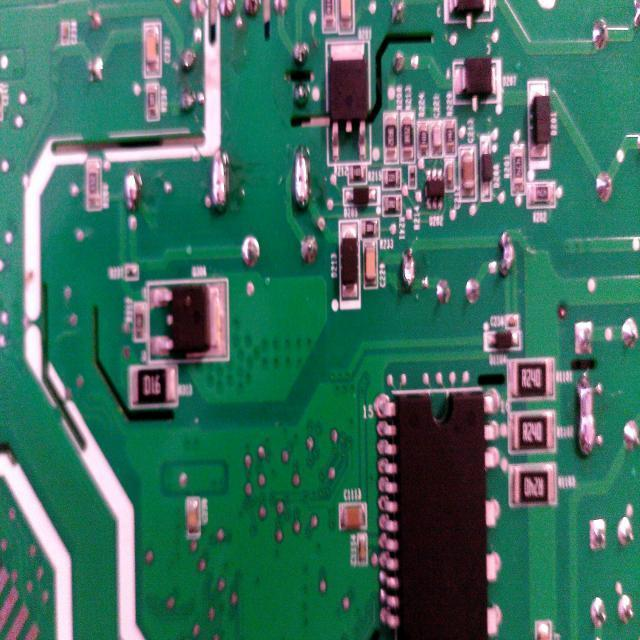Soldering shorted: (574, 372, 600, 466), (292, 140, 315, 221), (208, 144, 233, 212), (122, 168, 143, 214)
